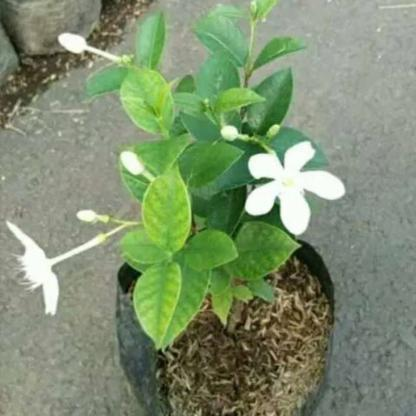Melati: (1, 228, 120, 319), (249, 147, 343, 228), (216, 112, 290, 142), (58, 26, 98, 66), (115, 143, 157, 181), (73, 202, 110, 228)
